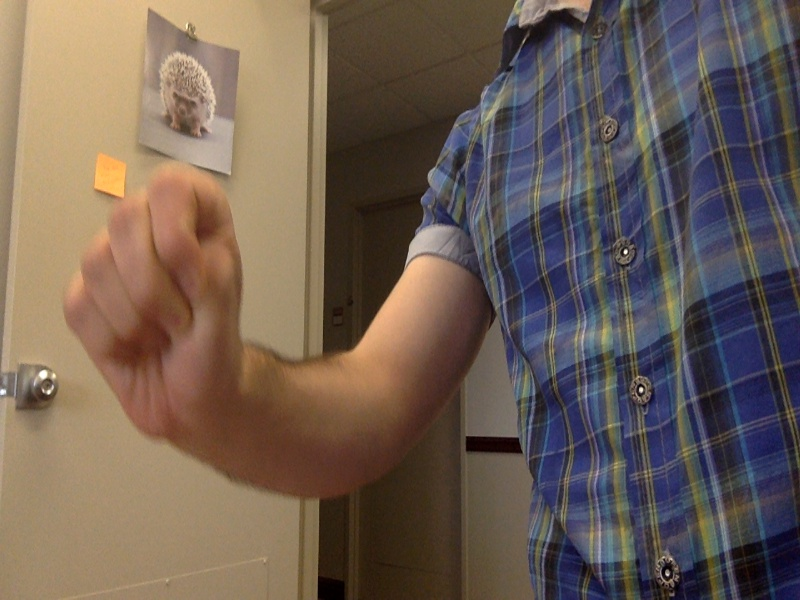0-hand: (56, 168, 243, 438)
